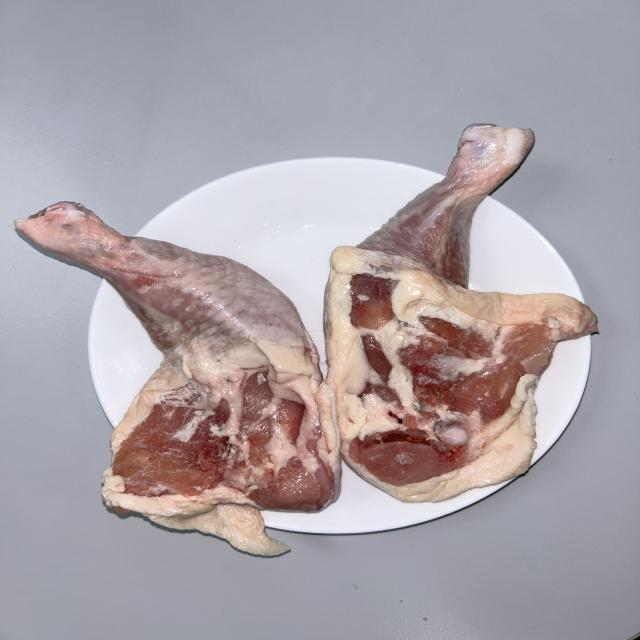quater: (14, 192, 338, 542), (324, 113, 566, 491)
